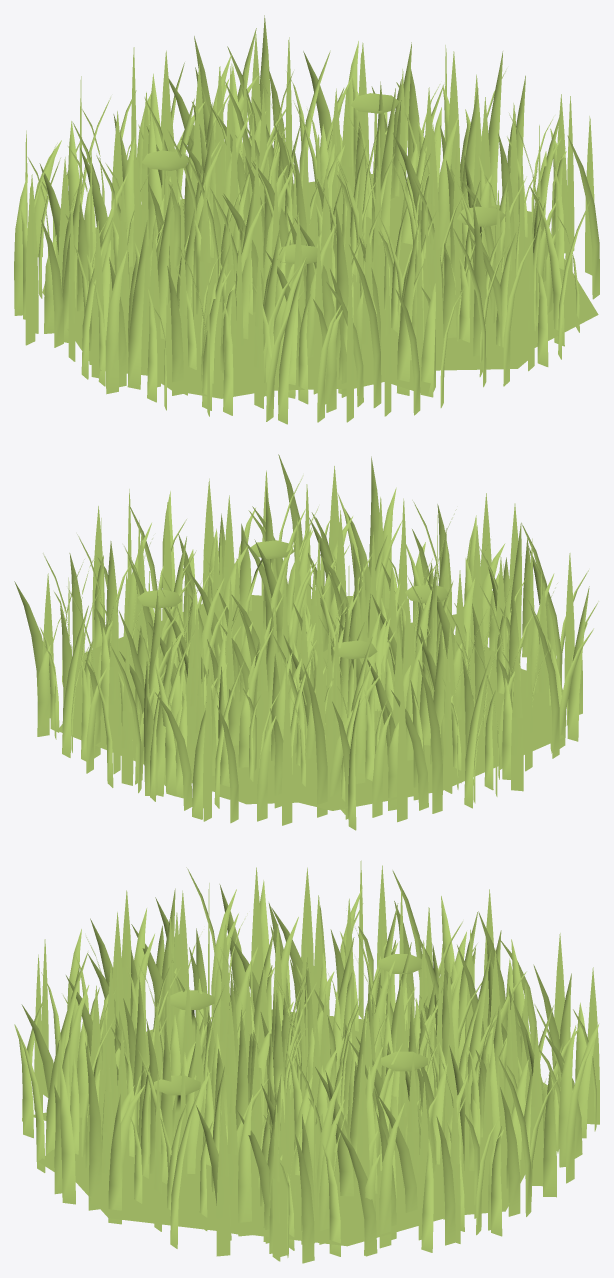
The model's file is grass-leaf-patch.fbx.
3 renders of one model, top to bottom at view 1: azimuth 30°, elevation 25°; view 2: azimuth 150°, elevation 25°; view 3: azimuth 270°, elevation 25°, orthographic. The views are drawn at different scales.
Visible parts, largest first — view 1: GrassPatch_LOD0; view 2: GrassPatch_LOD0; view 3: GrassPatch_LOD0.
Part boxes in pixels (<box>): GrassPatch_LOD0: <box>14,15,599,424</box>; GrassPatch_LOD0: <box>14,454,598,830</box>; GrassPatch_LOD0: <box>14,860,599,1263</box>.
Size of what is drawn, in the model's own units: 347 by 100 by 336.
